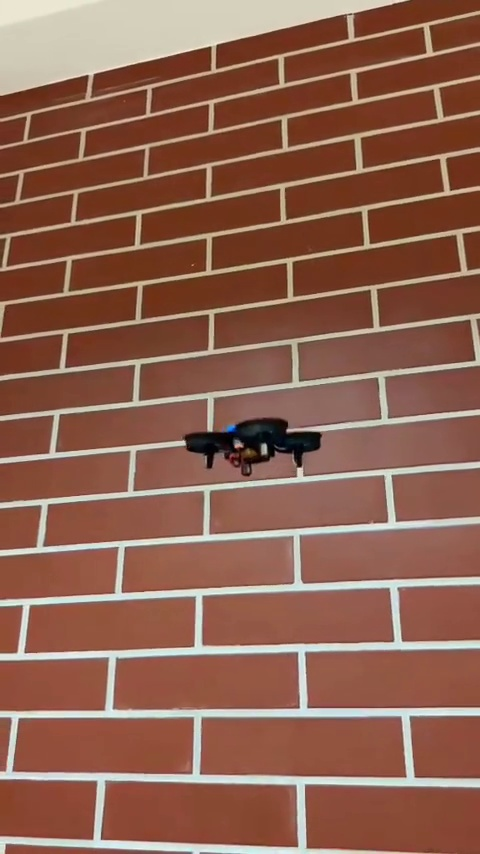drone: (182, 416, 320, 477)
